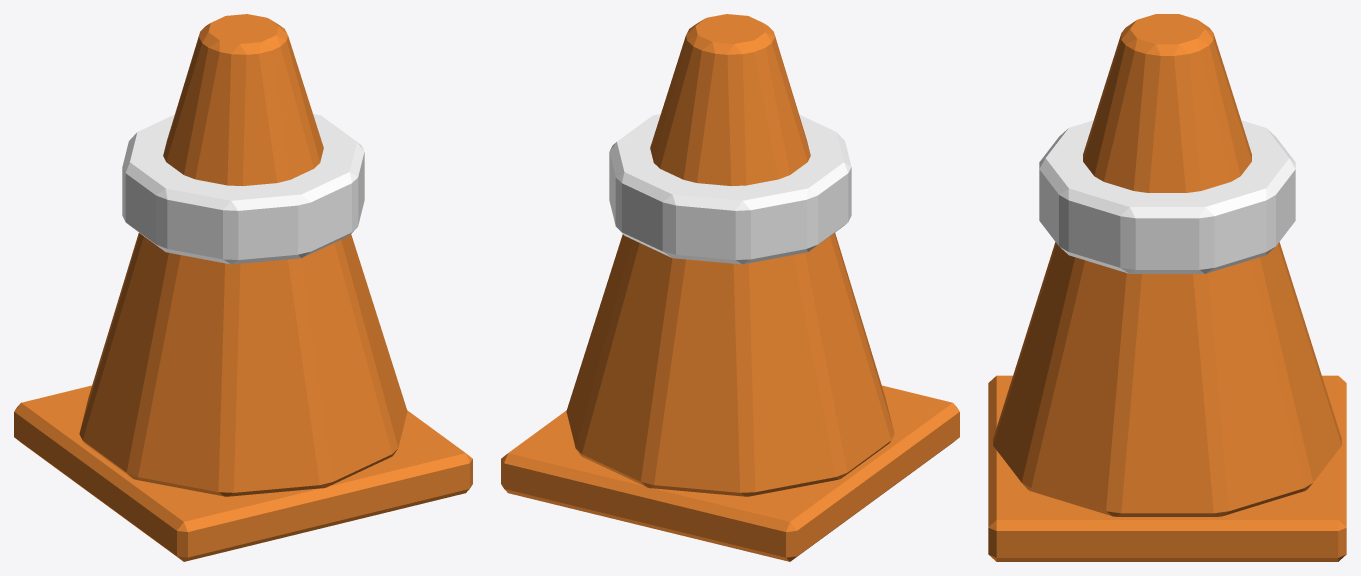
The model's file is traffic_cone.glb.
3 renders of one model, left to right at view 1: azimuth 30°, elevation 25°; view 2: azimuth 150°, elevation 25°; view 3: azimuth 270°, elevation 25°, orthographic. The views are drawn at different scales.
Visible parts, largest first — view 1: traffic_cone; view 2: traffic_cone; view 3: traffic_cone.
Part boxes in pixels (box(x1,y1,x2,y2)): traffic_cone: box(14, 14, 472, 561); traffic_cone: box(501, 14, 959, 561); traffic_cone: box(988, 14, 1346, 561).
Size of the model in its own units: 0.17 by 0.241 by 0.17.
